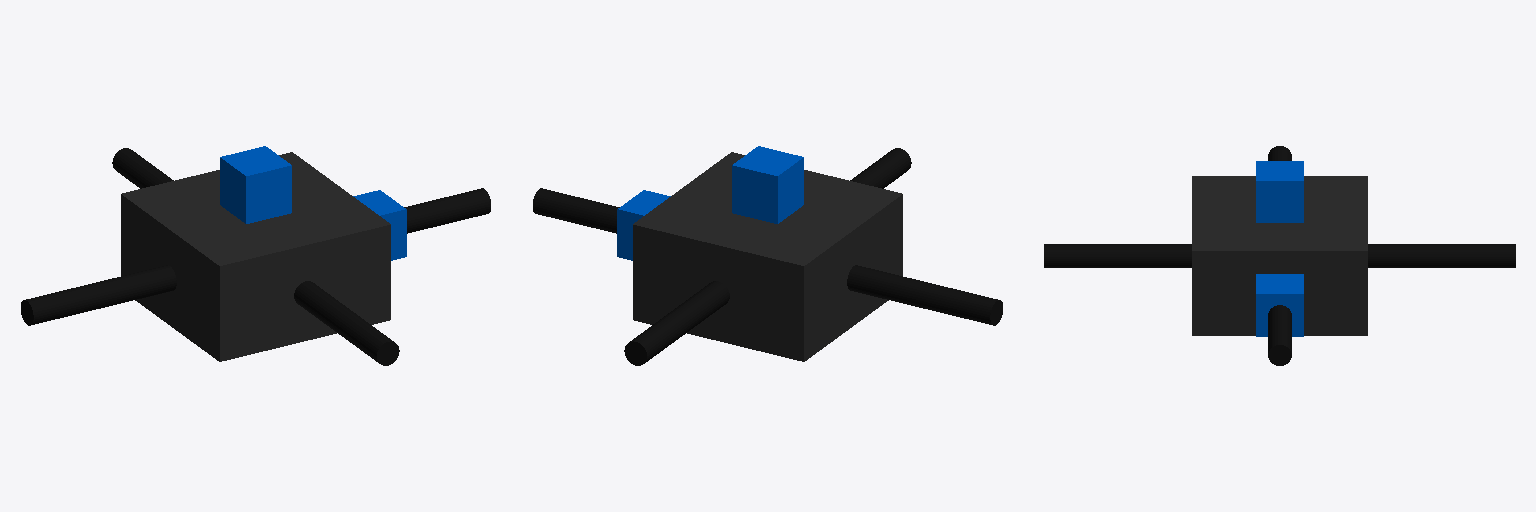
URDF robot description (evolved_agile_confined_v2):
<?xml version="1.0"?>
<robot name="evolved_agile_confined_v2">
  <!-- Base Link / Central Hub -->
  <link name="base_link">
    <inertial>
      <mass value="0.2000"/>
      <inertia ixx="0.000482" ixy="0" ixz="0" iyy="0.000482" iyz="0" izz="0.000750"/>
    </inertial>
    <visual>
      <geometry>
        <box size="0.15 0.15 0.08"/>
      </geometry>
      <material name="dark_grey"><color rgba="0.2 0.2 0.2 1.0"/></material>
    </visual>
    <collision>
      <geometry>
        <box size="0.15 0.15 0.08"/>
      </geometry>
    </collision>
  </link>
  <!-- Arm 0 -->
  <link name="arm_0">
    <inertial>
      <mass value="0.0640"/>
      <inertia ixx="0.0001" ixy="0" ixz="0" iyy="0.0001" iyz="0" izz="0002"/>
    </inertial>
    <visual>
      <geometry>
        <cylinder length="0.200" radius="0.01"/>
      </geometry>
      <material name="carbon"><color rgba="0.1 0.1 0.1 1.0"/></material>
    </visual>
  </link>
  <joint name="joint_base_arm_0" type="fixed">
    <parent link="base_link"/>
    <child link="arm_0"/>
    <origin xyz="0.1000 0.0000 0.0" rpy="0 1.5708 0.0000"/>
  </joint>
  <!-- Arm 1 -->
  <link name="arm_1">
    <inertial>
      <mass value="0.0640"/>
      <inertia ixx="0.0001" ixy="0" ixz="0" iyy="0.0001" iyz="0" izz="0002"/>
    </inertial>
    <visual>
      <geometry>
        <cylinder length="0.200" radius="0.01"/>
      </geometry>
      <material name="carbon"><color rgba="0.1 0.1 0.1 1.0"/></material>
    </visual>
  </link>
  <joint name="joint_base_arm_1" type="fixed">
    <parent link="base_link"/>
    <child link="arm_1"/>
    <origin xyz="0.0000 0.1000 0.0" rpy="0 1.5708 1.5708"/>
  </joint>
  <!-- Arm 2 -->
  <link name="arm_2">
    <inertial>
      <mass value="0.0640"/>
      <inertia ixx="0.0001" ixy="0" ixz="0" iyy="0.0001" iyz="0" izz="0002"/>
    </inertial>
    <visual>
      <geometry>
        <cylinder length="0.200" radius="0.01"/>
      </geometry>
      <material name="carbon"><color rgba="0.1 0.1 0.1 1.0"/></material>
    </visual>
  </link>
  <joint name="joint_base_arm_2" type="fixed">
    <parent link="base_link"/>
    <child link="arm_2"/>
    <origin xyz="-0.1000 0.0000 0.0" rpy="0 1.5708 3.1416"/>
  </joint>
  <!-- Arm 3 -->
  <link name="arm_3">
    <inertial>
      <mass value="0.0640"/>
      <inertia ixx="0.0001" ixy="0" ixz="0" iyy="0.0001" iyz="0" izz="0002"/>
    </inertial>
    <visual>
      <geometry>
        <cylinder length="0.200" radius="0.01"/>
      </geometry>
      <material name="carbon"><color rgba="0.1 0.1 0.1 1.0"/></material>
    </visual>
  </link>
  <joint name="joint_base_arm_3" type="fixed">
    <parent link="base_link"/>
    <child link="arm_3"/>
    <origin xyz="-0.0000 -0.1000 0.0" rpy="0 1.5708 4.7124"/>
  </joint>
  <!-- Sensor: sensor_0_s_lidar_2d -->
  <link name="sensor_0_s_lidar_2d">
    <inertial>
      <mass value="0.1350"/>
      <inertia ixx="0.00005" ixy="0" ixz="0" iyy="0.00005" iyz="0" izz="0.00005"/>
    </inertial>
    <visual>
      <geometry>
        <box size="0.04 0.04 0.04"/>
      </geometry>
      <material name="blue"><color rgba="0.0 0.4 0.8 1.0"/></material>
    </visual>
  </link>
  <joint name="joint_base_sensor_0_s_lidar_2d" type="fixed">
    <parent link="base_link"/>
    <child link="sensor_0_s_lidar_2d"/>
    <origin xyz="0.0000 0.0000 0.0600" rpy="0 0 0"/>
  </joint>
  <!-- Sensor: sensor_1_s_depth_cam -->
  <link name="sensor_1_s_depth_cam">
    <inertial>
      <mass value="0.0600"/>
      <inertia ixx="0.00005" ixy="0" ixz="0" iyy="0.00005" iyz="0" izz="0.00005"/>
    </inertial>
    <visual>
      <geometry>
        <box size="0.04 0.04 0.04"/>
      </geometry>
      <material name="blue"><color rgba="0.0 0.4 0.8 1.0"/></material>
    </visual>
  </link>
  <joint name="joint_base_sensor_1_s_depth_cam" type="fixed">
    <parent link="base_link"/>
    <child link="sensor_1_s_depth_cam"/>
    <origin xyz="0.1000 0.0000 0.0000" rpy="0 0 0"/>
  </joint>
</robot>

--- What the picture shows (computed from the rendered views, not written in the file) ---
The picture shows the robot from 3 angles, left to right: view 1: azimuth 30°, elevation 25°; view 2: azimuth 150°, elevation 25°; view 3: azimuth 270°, elevation 25°; orthographic projection.
Model evolved_agile_confined_v2 with 7 links and 6 joints (6 fixed), rooted at base_link, posed every joint at zero.
Visible links, largest first — view 1: base_link, sensor_0_s_lidar_2d, arm_2, arm_3, arm_0, sensor_1_s_depth_cam, arm_1; view 2: base_link, sensor_0_s_lidar_2d, arm_2, arm_1, arm_0, sensor_1_s_depth_cam, arm_3; view 3: base_link, arm_1, arm_3, sensor_0_s_lidar_2d, sensor_1_s_depth_cam, arm_0.
Link boxes in pixels (bbox=[...]): base_link: bbox=[121, 152, 390, 361]; sensor_0_s_lidar_2d: bbox=[220, 146, 291, 223]; arm_2: bbox=[21, 265, 176, 325]; arm_3: bbox=[294, 281, 399, 365]; arm_0: bbox=[404, 188, 490, 233]; sensor_1_s_depth_cam: bbox=[353, 190, 406, 260]; arm_1: bbox=[112, 148, 173, 188]; base_link: bbox=[633, 152, 902, 361]; sensor_0_s_lidar_2d: bbox=[732, 146, 803, 223]; arm_2: bbox=[847, 265, 1002, 325]; arm_1: bbox=[624, 281, 729, 365]; arm_0: bbox=[533, 188, 619, 233]; sensor_1_s_depth_cam: bbox=[617, 190, 670, 260]; arm_3: bbox=[850, 148, 911, 188]; base_link: bbox=[1192, 176, 1367, 335]; arm_1: bbox=[1368, 244, 1515, 267]; arm_3: bbox=[1044, 244, 1191, 267]; sensor_0_s_lidar_2d: bbox=[1256, 161, 1303, 222]; sensor_1_s_depth_cam: bbox=[1256, 274, 1303, 336]; arm_0: bbox=[1268, 305, 1291, 365].
Bounding box of the posed robot: 0.4 × 0.4 × 0.12 m (x, y, z).
Geometry: primitives only (box / cylinder / sphere), no mesh files.
